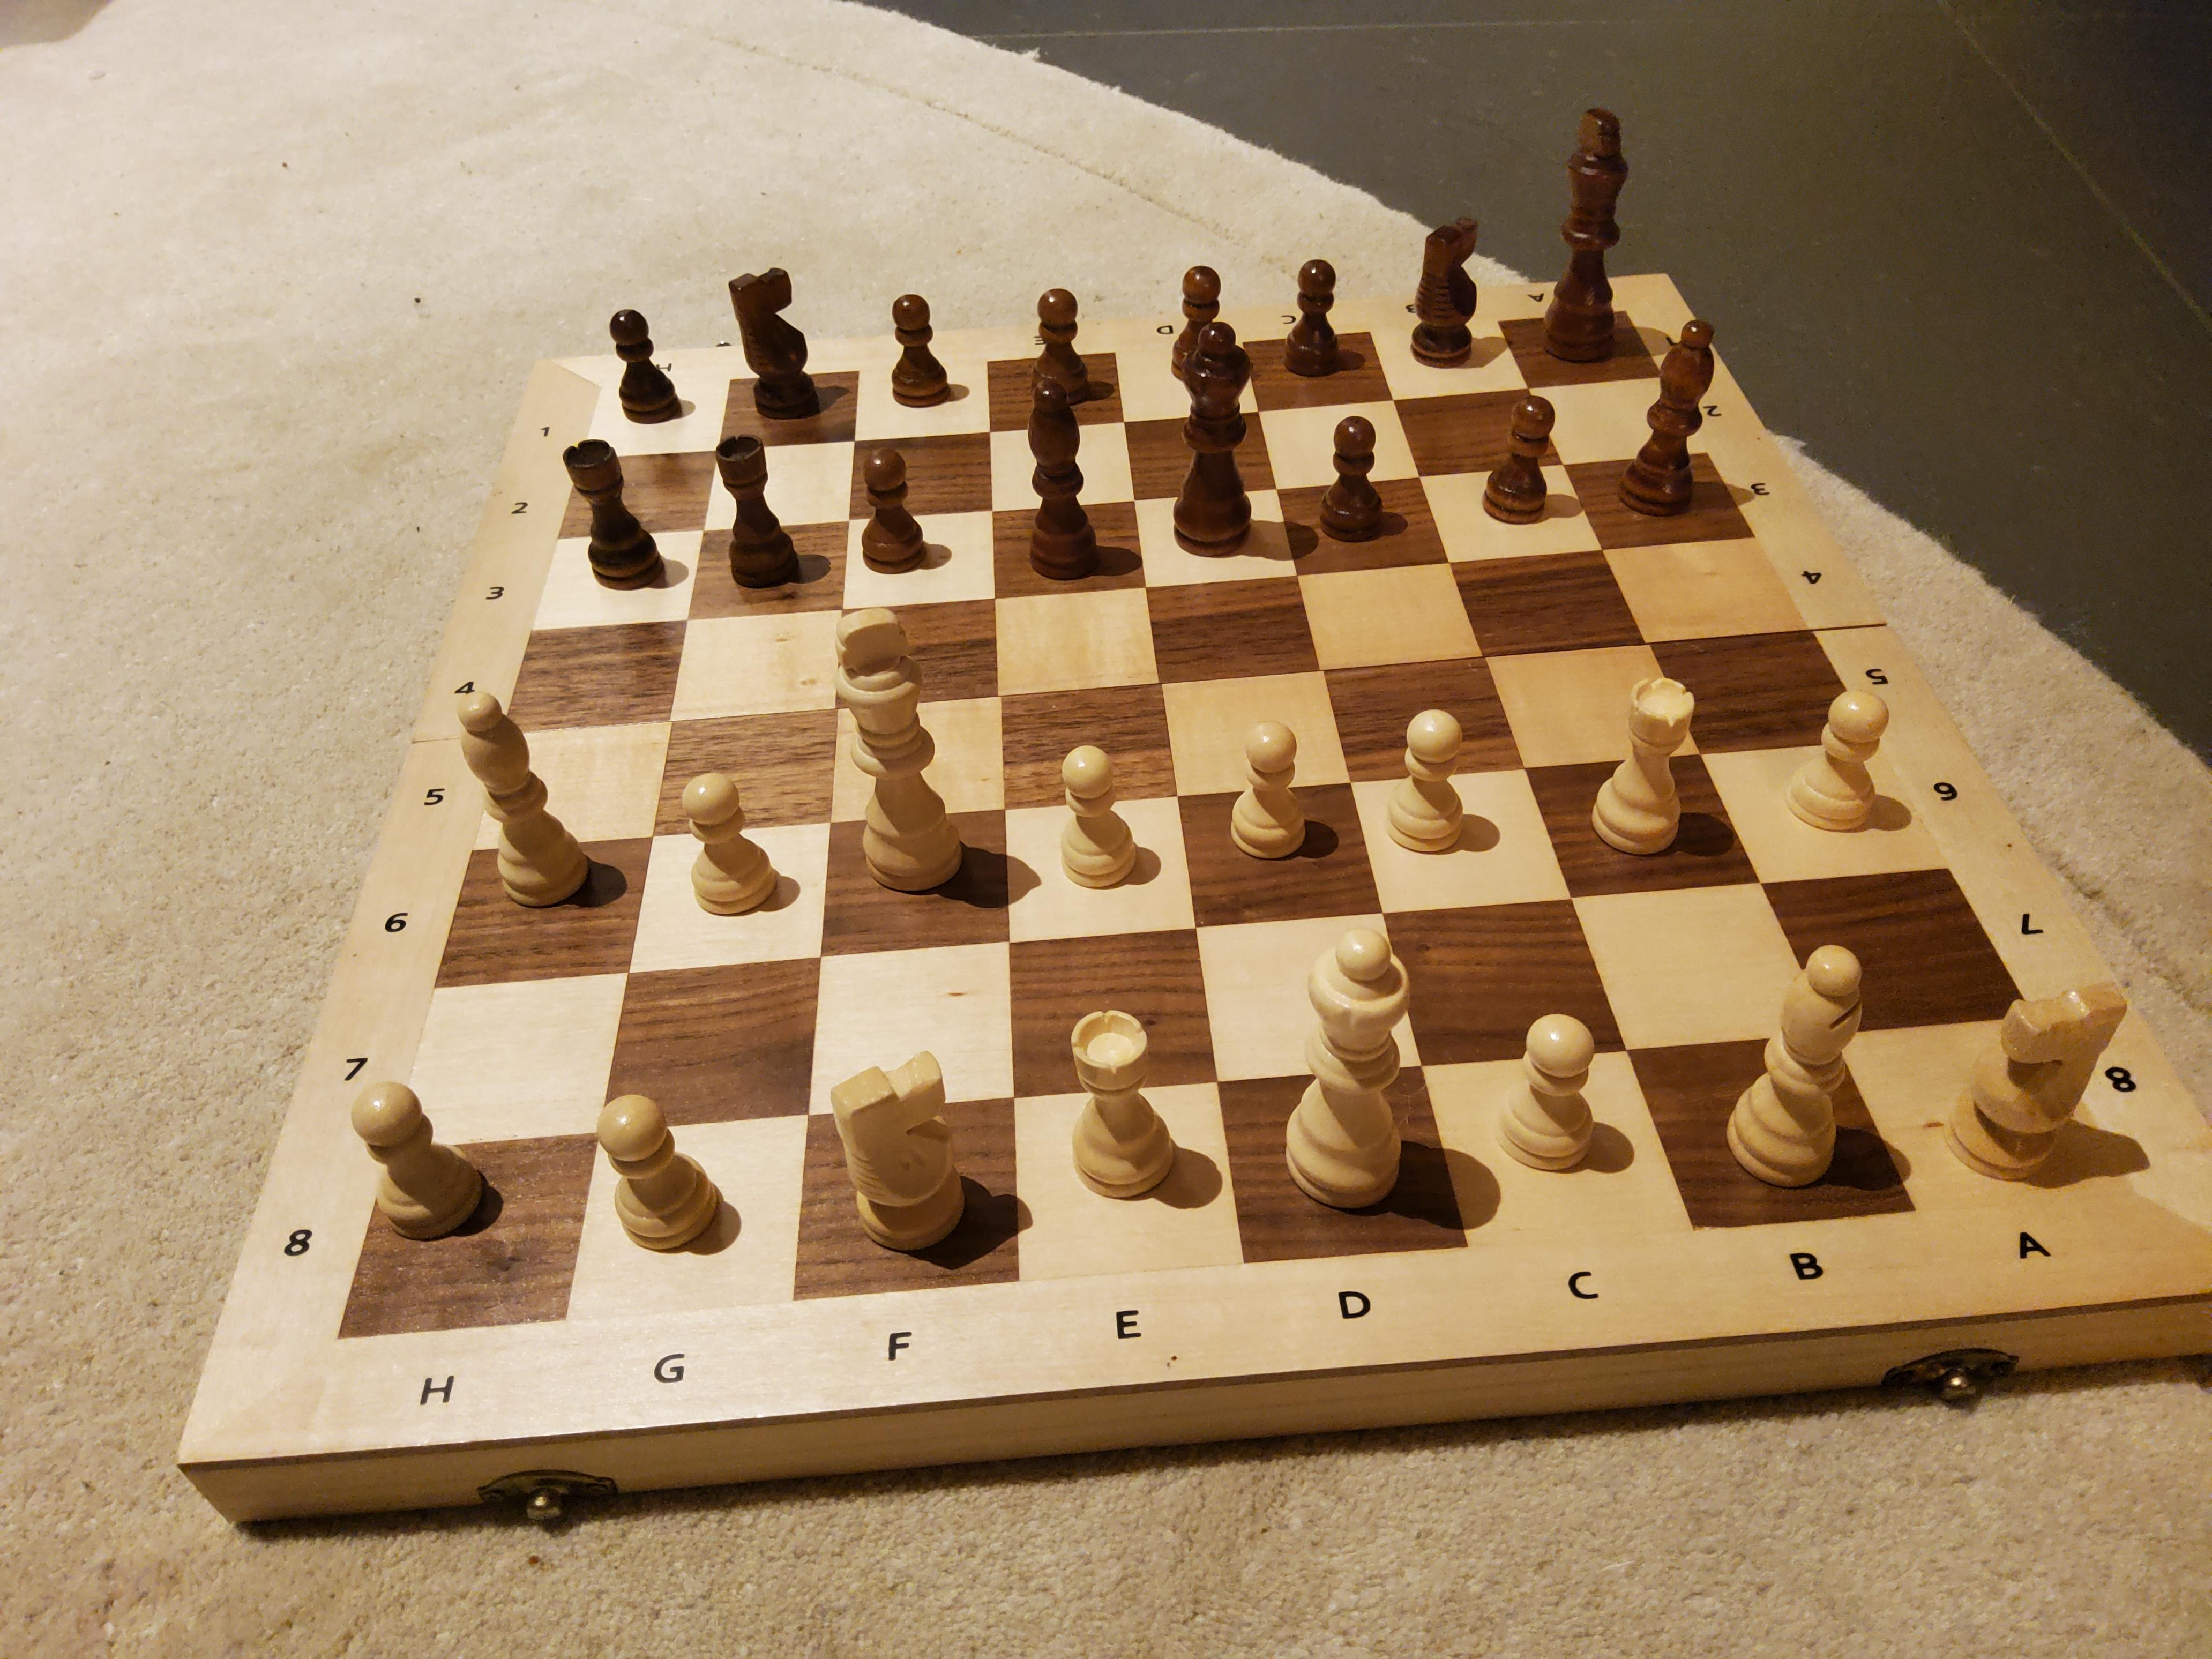schaak: (164, 101, 2209, 1539), (1249, 903, 1472, 1213), (798, 1037, 1029, 1300), (812, 605, 1005, 887), (1712, 931, 1912, 1166), (1961, 957, 2161, 1173), (442, 669, 624, 897), (554, 1080, 756, 1246), (1050, 981, 1214, 1185), (1569, 659, 1737, 852), (1629, 305, 1766, 512), (340, 1063, 512, 1222), (1538, 110, 1642, 364), (1784, 681, 1932, 847), (1494, 983, 1616, 1168), (702, 230, 827, 408), (542, 432, 686, 582), (1007, 375, 1116, 570), (1209, 704, 1348, 857), (1163, 321, 1263, 535), (1374, 699, 1512, 847), (1036, 732, 1160, 877), (662, 762, 796, 889), (1402, 204, 1493, 359), (1299, 410, 1414, 530), (594, 281, 691, 418), (716, 432, 803, 582), (841, 439, 942, 563), (1472, 394, 1562, 509), (1273, 253, 1353, 378), (881, 274, 960, 397), (1174, 260, 1233, 324)
